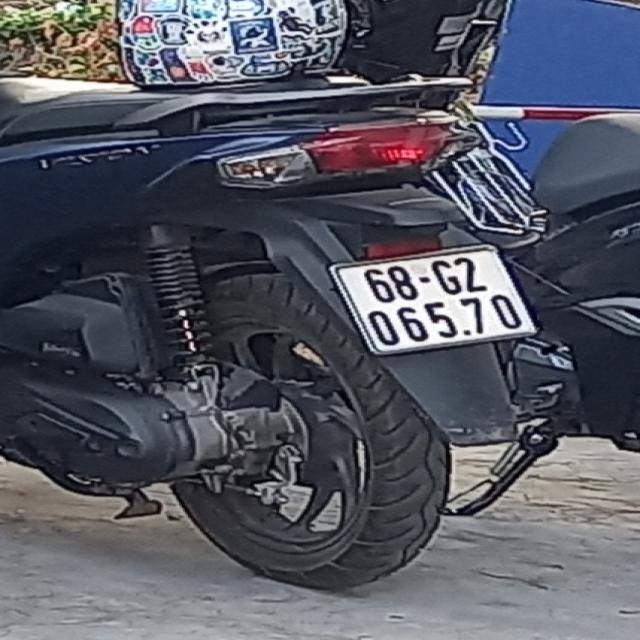0: (487, 292, 525, 331), (369, 310, 400, 346)
2: (454, 256, 486, 293)
5: (424, 301, 458, 339)
6: (396, 305, 430, 344), (364, 268, 394, 306)
7: (460, 294, 488, 338)
8: (389, 264, 421, 302)
G: (430, 259, 464, 296)
